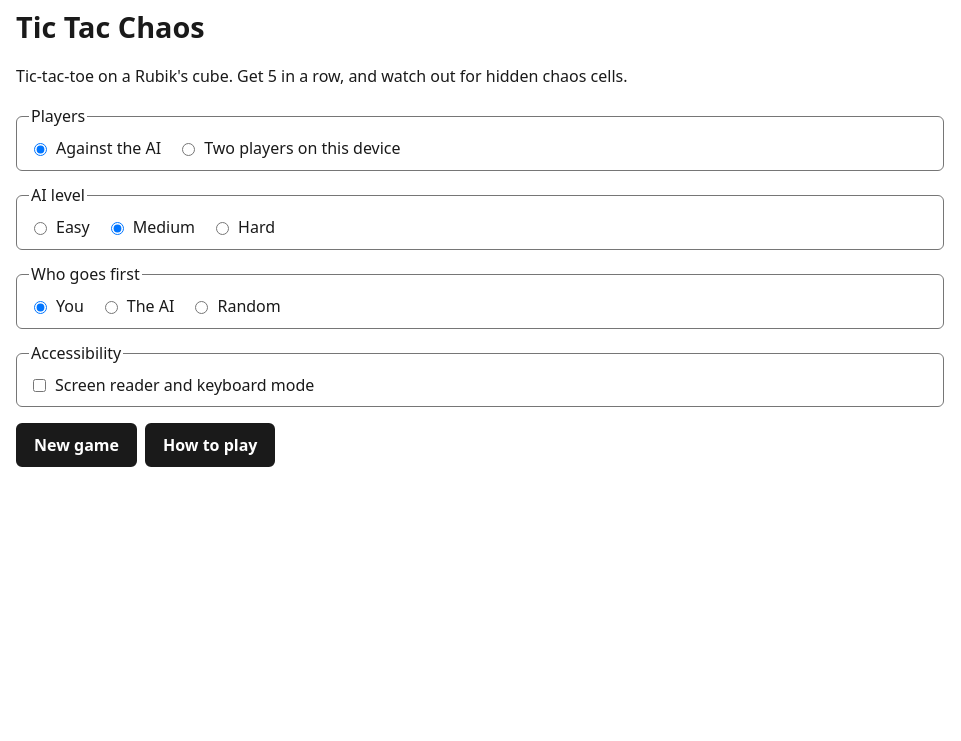
the 3D cube › is the board by default: a click on it places a mark, with no cell buttons or announcer
Click the button "New game".
click(76, 445)  # box [16, 423, 137, 467]
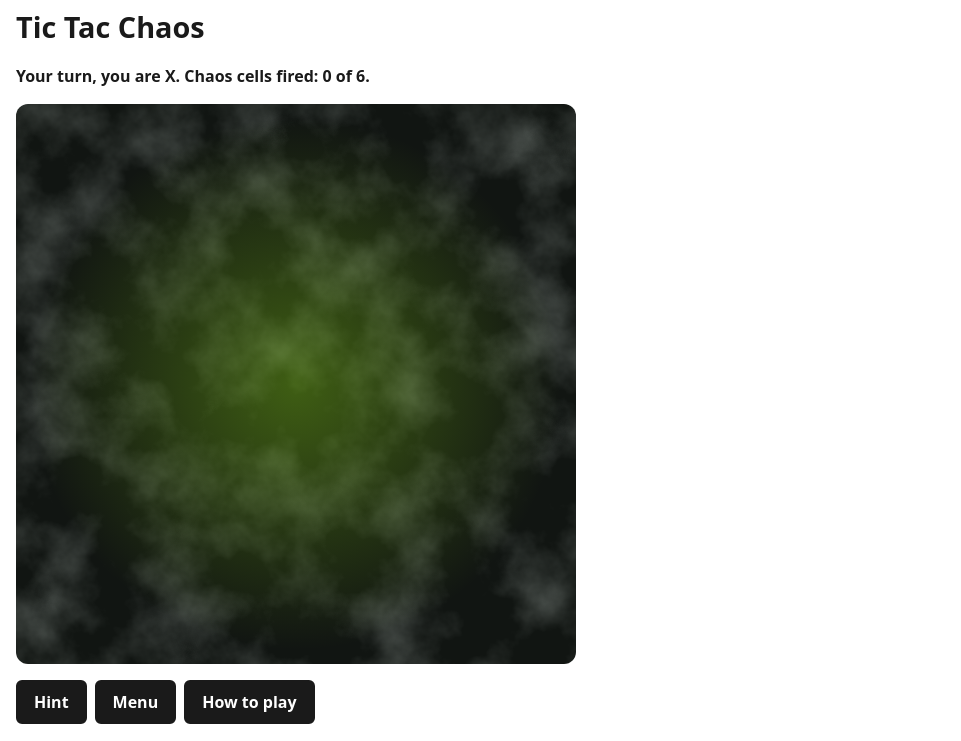
expect the picture named "The cube." is shown: met, box [16, 104, 576, 664]
expect the text "Your turn, you are X. Chaos cells fired: 0 of 6." is shown: met, box [16, 65, 370, 87]
